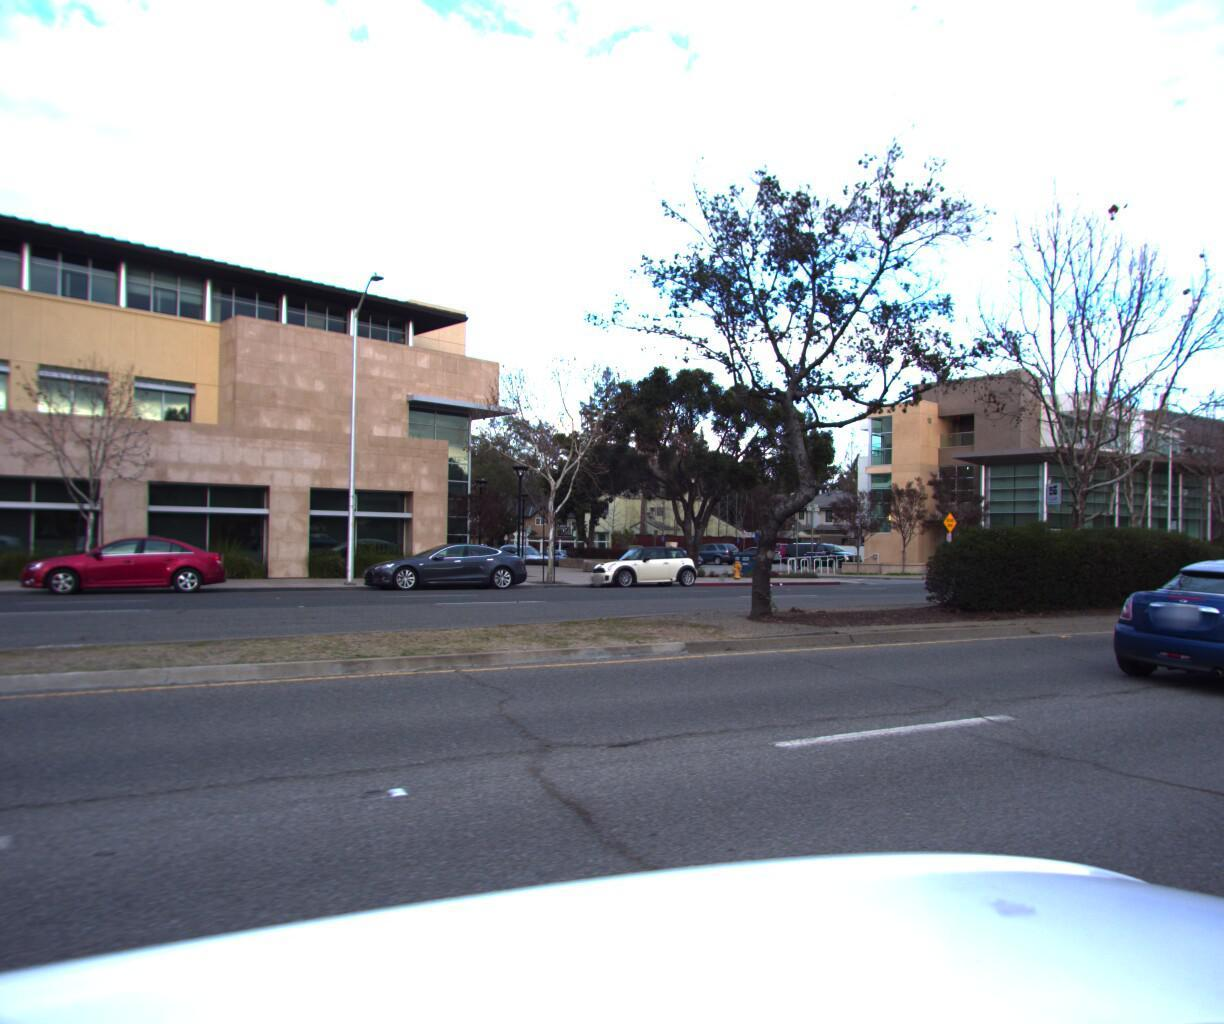car: (1092, 547, 1224, 706), (9, 532, 234, 597), (357, 537, 530, 593), (580, 541, 703, 588)
